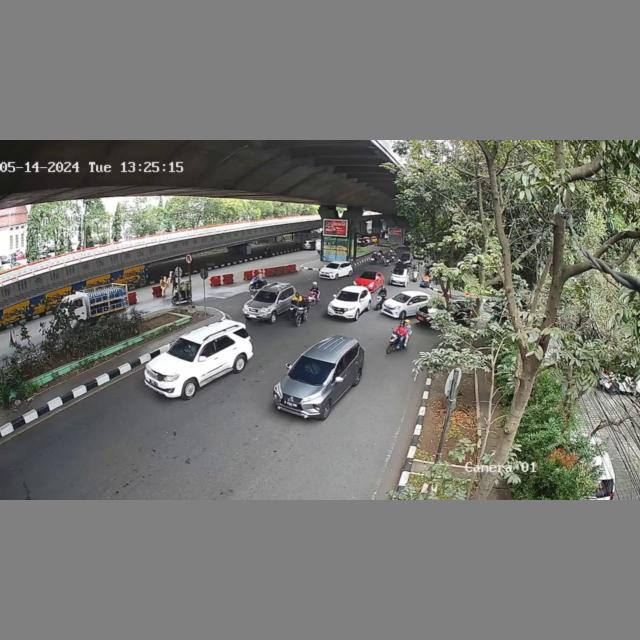windshield: (289, 354, 335, 385), (167, 337, 203, 364), (256, 289, 279, 305), (336, 290, 361, 302)
